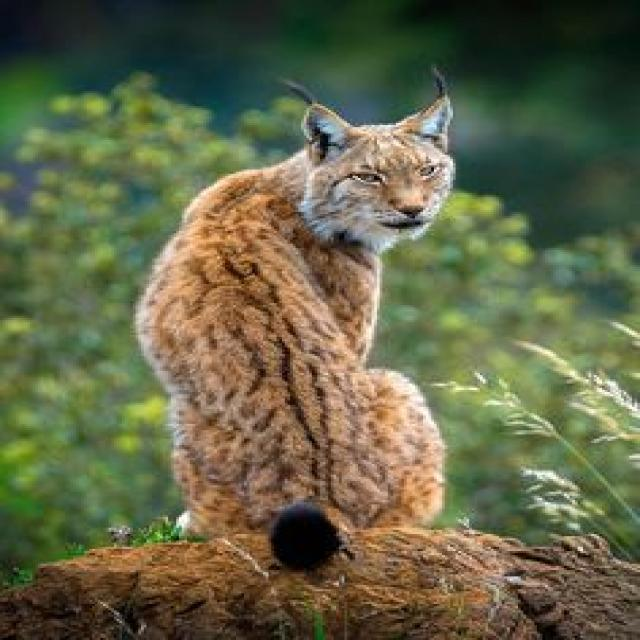Carnivorous: (136, 68, 456, 564)
